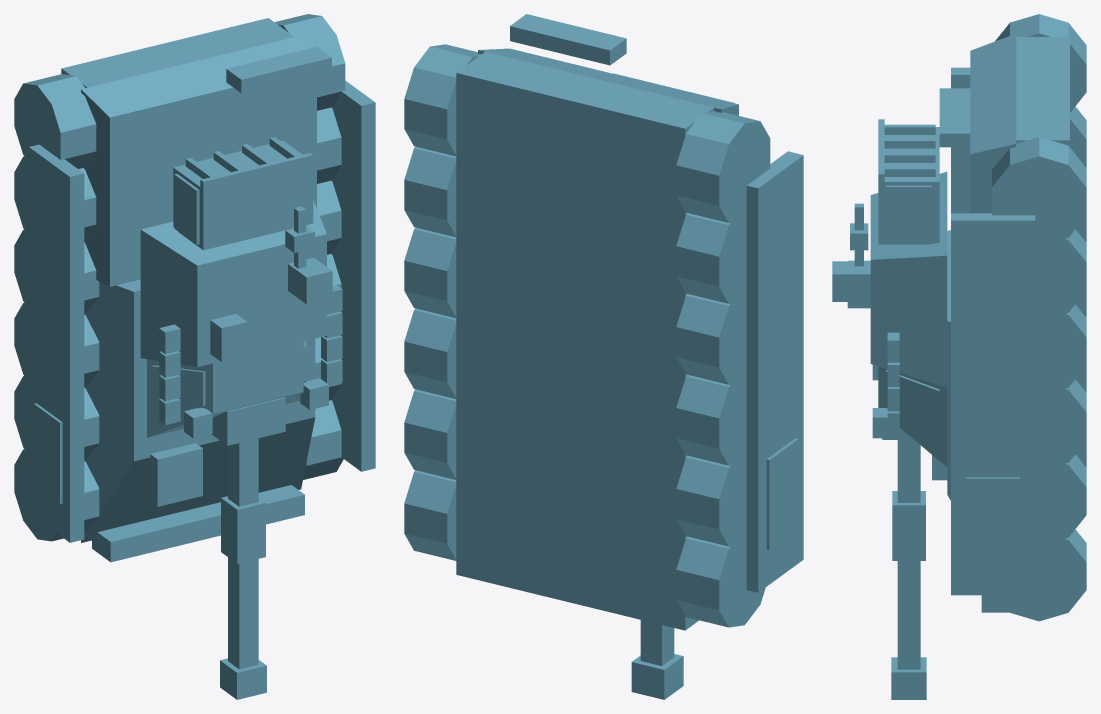
File: MBT.glb
The picture shows the model from 3 angles, left to right: view 1: azimuth 30°, elevation 25°; view 2: azimuth 150°, elevation 25°; view 3: azimuth 270°, elevation 25°; orthographic projection. The views are drawn at different scales.
Visible parts, largest first — view 1: Base, Turret, Gun, WheelL6, WheelR6, WheelL1, WheelR1, WheelL3, WheelL2, WheelL4, WheelR5, WheelL5 (+1 smaller); view 2: Base, WheelL6, WheelL1, WheelL2, WheelL5, WheelL3, WheelL4, WheelR6, WheelR3, WheelR4, WheelR5, WheelR1 (+2 smaller); view 3: Base, Turret, WheelR6, Gun, WheelR1, WheelR4, WheelR5, WheelR3, WheelR2, WheelL6, WheelL5.
Boxes of the visible parts, x1,y1,x2,y2 form: Base: (29,18,375,562); Turret: (140,137,342,445); Gun: (220,438,266,699); WheelL6: (14,74,96,168); WheelR6: (274,14,345,110); WheelL1: (14,449,99,541); WheelR1: (302,400,343,479); WheelL3: (14,302,99,386); WheelL2: (14,376,99,460); WheelL4: (14,229,99,313); WheelR5: (317,107,341,183); WheelL5: (14,156,96,240); Base: (456,14,803,630); WheelL6: (676,111,770,222); WheelL1: (676,531,765,627); WheelL2: (676,447,746,546); WheelL5: (676,204,746,303); WheelL3: (676,366,746,465); WheelL4: (676,285,746,384); WheelR6: (404,44,480,156); WheelR3: (404,308,456,398); WheelR4: (404,227,456,317); WheelR5: (404,146,456,237); WheelR1: (404,470,456,560); Base: (932,34,1069,612); Turret: (832,119,947,467); WheelR6: (992,137,1086,246); Gun: (891,440,926,699); WheelR1: (996,529,1086,621); WheelR4: (1035,304,1086,396); WheelR5: (1035,229,1086,319); WheelR3: (1035,379,1086,470); WheelR2: (1035,454,1086,538); WheelL6: (995,14,1086,112); WheelL5: (1070,106,1086,167).
Size of the model in its own units: 48 by 88 by 33.18.
